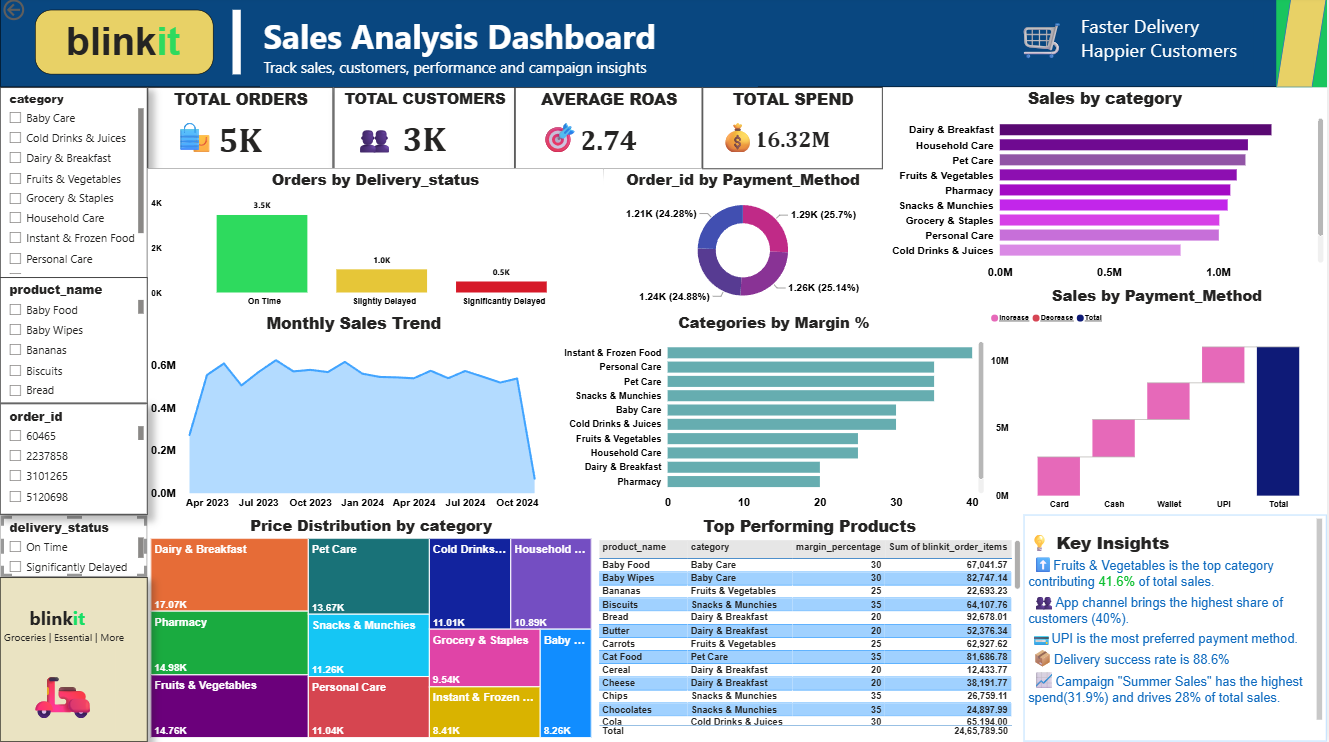

The dashboard page shown, as its layout file describes it:
{"tool":"powerbi","page":{"name":"Page 1","canvas":[1920,1080],"ordinal":0},"visuals":[{"type":"textbox","box":[0,0,1920.4,132.4],"z":0},{"type":"cardVisual","title":"TOTAL ORDERS","fields":{"Data":["blinkit_orders.Total Order"]},"box":[213.8,132.4,268.8,118.1],"z":1000},{"type":"cardVisual","title":"TOTAL CUSTOMERS","fields":{"Data":["blinkit_customers.Total Customers"]},"box":[482.6,132.4,262.7,118.1],"z":2000},{"type":"textbox","box":[509.1,169,71.3,67.2],"z":3000},{"type":"cardVisual","title":"AVERAGE ROAS","fields":{"Data":["blinkit_marketing_performance.Total ROAS"]},"box":[745.4,132.4,270.9,118.1],"z":4000},{"type":"textbox","box":[775.9,169,67.2,67.2],"z":5000},{"type":"slicer","fields":{"Values":["blinkit_products.category"]},"box":[0,132.4,213.8,277],"z":6000},{"type":"slicer","fields":{"Values":["blinkit_orders.delivery_status"]},"box":[0,407.3,213.8,130.3],"z":7000},{"type":"clusteredBarChart","title":" Order by category","fields":{"Category":["blinkit_products.category"],"Y":["Sum(blinkit_orders.order_total)"]},"box":[1276.9,132.4,643.5,285.1],"z":8000},{"type":"clusteredColumnChart","title":" Orders by Delivery_status","fields":{"Category":["blinkit_orders.delivery_status"],"Y":["blinkit_orders.Total Order"]},"box":[213.8,250.5,659.8,207.7],"z":9000},{"type":"areaChart","title":"Monthly Sales Trend","fields":{"Category":["blinkit_orders.order_date.Variation.Date Hierarchy.Year","blinkit_orders.order_date.Variation.Date Hierarchy.Month"],"Y":["Sum(blinkit_orders.order_total)"]},"box":[213.8,458.2,596.7,293.3],"z":10000},{"type":"donutChart","title":"order_id by payment_method","fields":{"Category":["blinkit_orders.payment_method"],"Y":["CountNonNull(blinkit_orders.order_id)"]},"box":[873.7,250.5,403.2,207.7],"z":11000},{"type":"cardVisual","title":"TOTAL SPEND","fields":{"Data":["blinkit_marketing_performance.Marketing Spend"]},"box":[1016.2,132.4,260.7,118.1],"z":12000},{"type":"textbox","box":[1032.5,169,65.2,67.2],"z":13000},{"type":"waterfallChart","fields":{"Category":["blinkit_marketing_performance.target_audience"],"Y":["Sum(blinkit_marketing_performance.spend)"]},"box":[1276.9,417.5,643.5,334],"z":14000},{"type":"lineClusteredColumnComboChart","title":"Categories by Margin %","fields":{"Category":["blinkit_products.margin_percentage"],"Y":["Count(blinkit_products.category)"]},"box":[810.5,458.2,466.4,293.3],"z":15000},{"type":"treemap","title":"Marketing spend by campaign_name","fields":{"Values":["Sum(blinkit_marketing_performance.spend)"],"Group":["blinkit_marketing_performance.campaign_name"]},"box":[213.8,751.5,647.6,327.9],"z":16000},{"type":"slicer","fields":{"Values":["blinkit_marketing_performance.target_audience"]},"box":[0,539.7,213.8,150.7],"z":17000},{"type":"slicer","fields":{"Values":["blinkit_marketing_performance.channel"]},"box":[0,690.4,213.8,150.7],"z":18000},{"type":"tableEx","title":"Top Performing Products","fields":{"Values":["blinkit_products.product_name","blinkit_products.category","blinkit_products.margin_percentage","Sum(blinkit_orders.blinkit_order_items.unit_price)"]},"box":[861.4,751.5,621.1,327.9],"z":19000},{"type":"actionButton","box":[0,0,100,40],"z":20000},{"type":"textbox","box":[0,860,187,220],"z":21000},{"type":"textbox","box":[50.9,20.4,258.6,93.7],"z":22000},{"type":"shape","box":[1847.1,0,73.3,132.4],"z":23000},{"type":"textbox","box":[336,20.4,12.2,93.7],"z":24000},{"type":"textbox","box":[376.8,20.4,720.9,112],"z":25000},{"type":"textbox","box":[1466.3,20.4,93.7,93.7],"z":26000},{"type":"textbox","box":[1560,20.4,254.6,93.7],"z":27000},{"type":"textbox","box":[0,841.1,213.8,238.3],"z":28000},{"type":"textbox","box":[30.5,942.9,136.4,122.2],"z":29000},{"type":"textbox","box":[248.5,169,61.1,67.2],"z":30000},{"type":"textbox","box":[1482,751,438,328],"z":31000}]}

Visuals, with their boxes in screenshot pixels (x1, y1, x2, y2), scaled from the page's 1920x1080 canvas onto the 1329x742 screenshot:
textbox: (x1=0, y1=0, x2=1328, y2=91)
"TOTAL ORDERS" cardVisual: (x1=148, y1=91, x2=334, y2=172)
"TOTAL CUSTOMERS" cardVisual: (x1=334, y1=91, x2=516, y2=172)
textbox: (x1=352, y1=116, x2=402, y2=162)
"AVERAGE ROAS" cardVisual: (x1=516, y1=91, x2=703, y2=172)
textbox: (x1=537, y1=116, x2=584, y2=162)
slicer - blinkit_products.category: (x1=0, y1=91, x2=148, y2=281)
slicer - blinkit_orders.delivery_status: (x1=0, y1=280, x2=148, y2=369)
" Order by category" clusteredBarChart: (x1=884, y1=91, x2=1328, y2=287)
" Orders by Delivery_status" clusteredColumnChart: (x1=148, y1=172, x2=605, y2=315)
"Monthly Sales Trend" areaChart: (x1=148, y1=315, x2=561, y2=516)
"order_id by payment_method" donutChart: (x1=605, y1=172, x2=884, y2=315)
"TOTAL SPEND" cardVisual: (x1=703, y1=91, x2=884, y2=172)
textbox: (x1=715, y1=116, x2=760, y2=162)
waterfallChart - blinkit_marketing_performance.target_audience x Sum(blinkit_marketing_performance.spend): (x1=884, y1=287, x2=1328, y2=516)
"Categories by Margin %" lineClusteredColumnComboChart: (x1=561, y1=315, x2=884, y2=516)
"Marketing spend by campaign_name" treemap: (x1=148, y1=516, x2=596, y2=741)
slicer - blinkit_marketing_performance.target_audience: (x1=0, y1=371, x2=148, y2=474)
slicer - blinkit_marketing_performance.channel: (x1=0, y1=474, x2=148, y2=578)
"Top Performing Products" tableEx: (x1=596, y1=516, x2=1026, y2=741)
actionButton: (x1=0, y1=0, x2=69, y2=27)
textbox: (x1=0, y1=591, x2=129, y2=741)
textbox: (x1=35, y1=14, x2=214, y2=78)
shape: (x1=1279, y1=0, x2=1328, y2=91)
textbox: (x1=233, y1=14, x2=241, y2=78)
textbox: (x1=261, y1=14, x2=760, y2=91)
textbox: (x1=1015, y1=14, x2=1080, y2=78)
textbox: (x1=1080, y1=14, x2=1256, y2=78)
textbox: (x1=0, y1=578, x2=148, y2=741)
textbox: (x1=21, y1=648, x2=116, y2=732)
textbox: (x1=172, y1=116, x2=214, y2=162)
textbox: (x1=1026, y1=516, x2=1328, y2=741)
